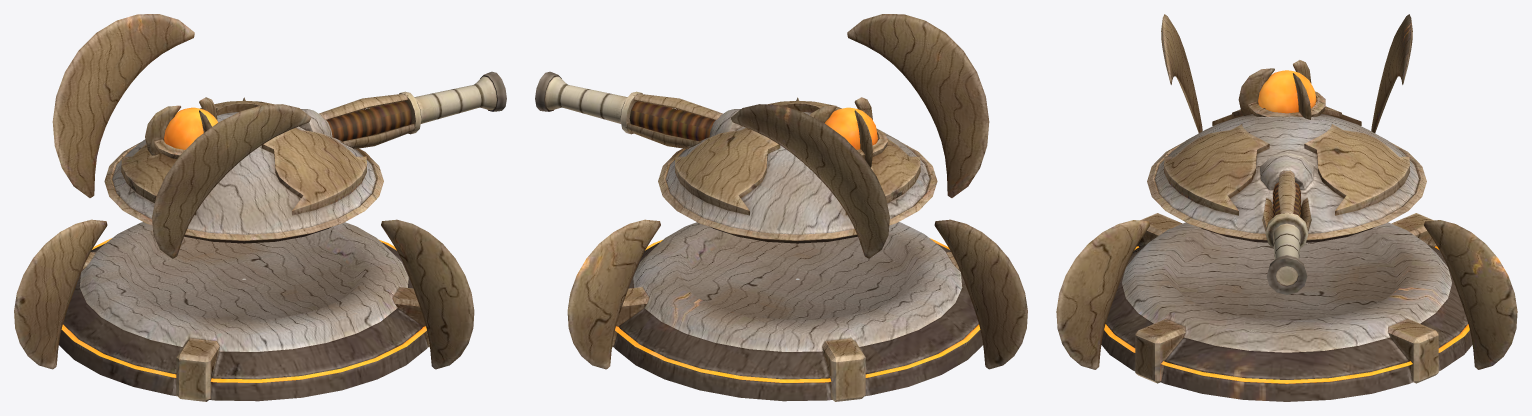
The model's file is kesh_thornmound.glb.
3 renders of one model, left to right at view 1: azimuth 30°, elevation 25°; view 2: azimuth 150°, elevation 25°; view 3: azimuth 270°, elevation 25°, orthographic.
Parts seen in each view (by area): view 1: Base, Turret; view 2: Base, Turret; view 3: Base, Turret.
Boxes of the visible parts, x1,y1,x2,y2 form: Base: [14, 97, 474, 401]; Turret: [52, 14, 506, 258]; Base: [567, 97, 1027, 401]; Turret: [535, 14, 989, 258]; Base: [1056, 213, 1517, 401]; Turret: [1147, 14, 1426, 294].
Size of the model in its own units: 5.68 by 3.08 by 4.69.
Materials: 1 (1 with a texture image).
